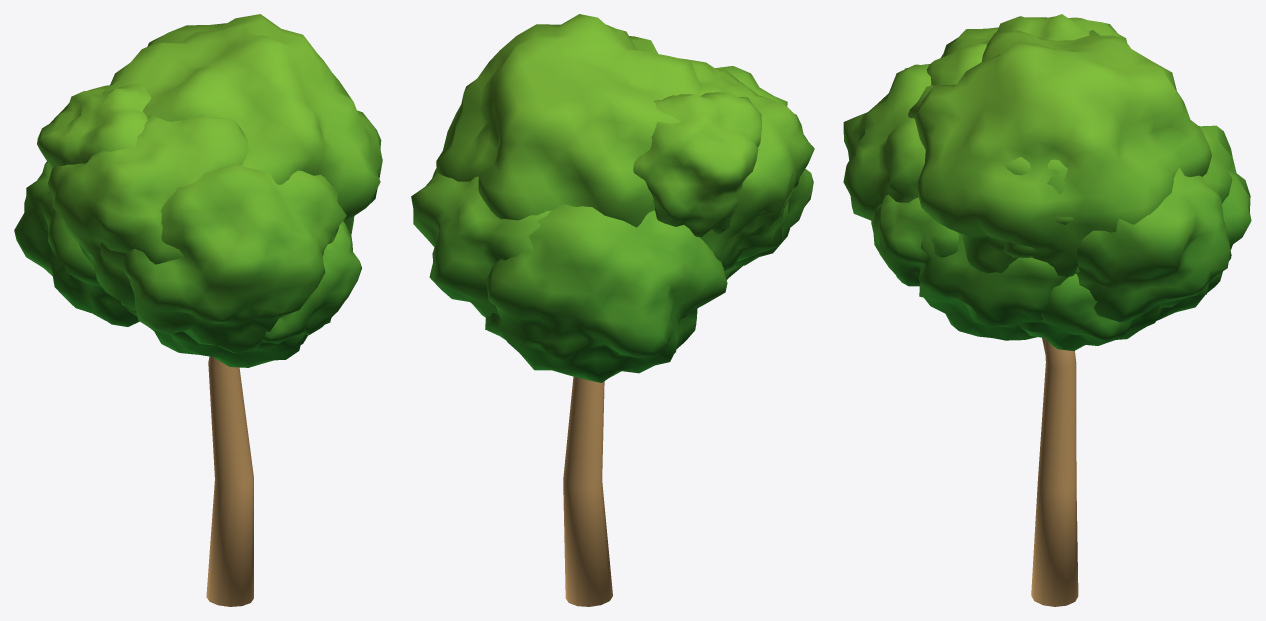
File: tree_b.glb
3 renders of one model, left to right at view 1: azimuth 30°, elevation 25°; view 2: azimuth 150°, elevation 25°; view 3: azimuth 270°, elevation 25°, orthographic.
Visible parts, largest first — view 1: tree_b; view 2: tree_b; view 3: tree_b.
Boxes of the visible parts, x1,y1,x2,y2 form: tree_b: (14, 14, 382, 606); tree_b: (411, 14, 814, 606); tree_b: (843, 14, 1251, 606).
Size of the model in its own units: 4.67 by 7.86 by 5.19.
